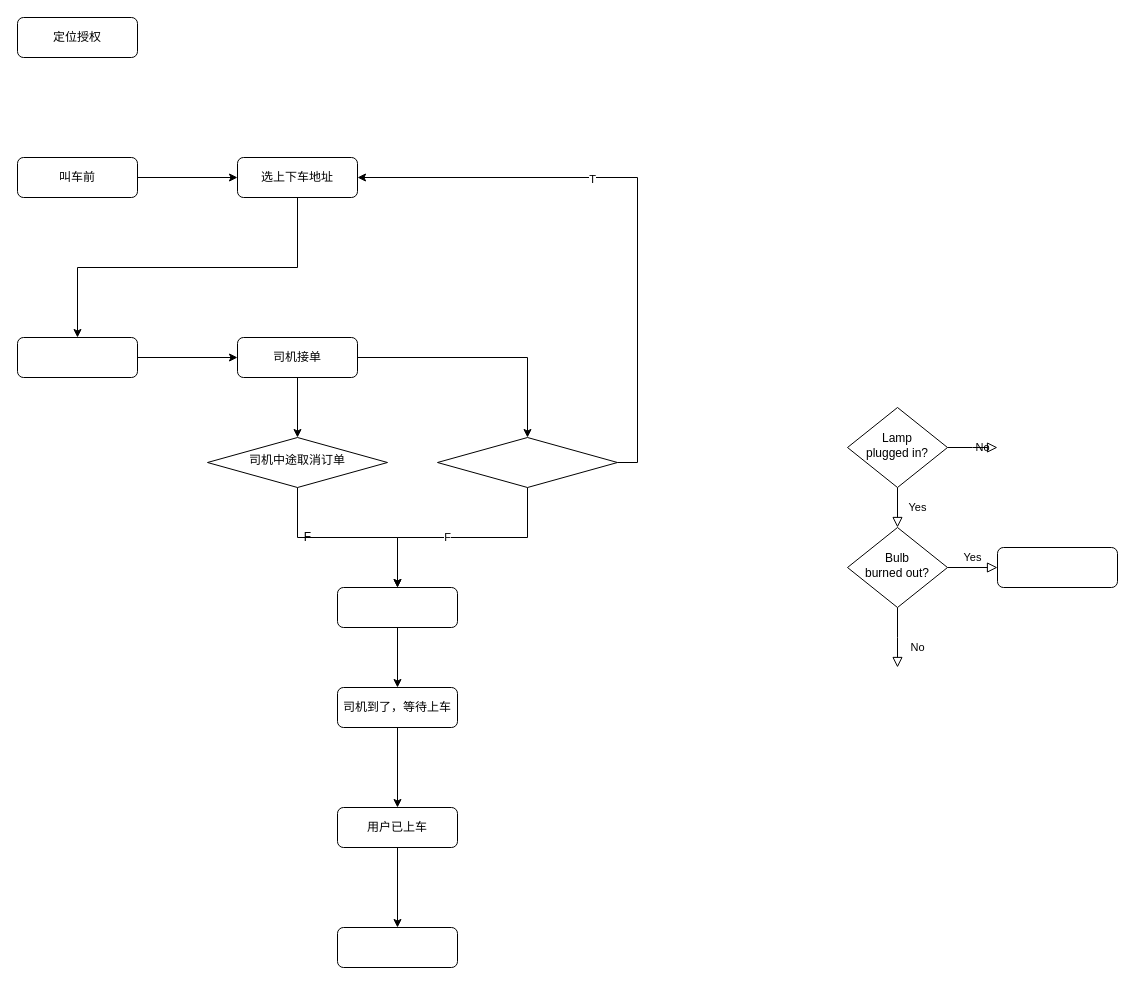
Image size: 1135x985. Some labels were removed from this diagram. Each missing label, with the centre of its shape:
"Replace Bulb" belongs at (x=1057, y=567).
"叫车中" belongs at (x=77, y=357).
"用户中途取消订单" belongs at (x=527, y=462).
"等待接驾" belongs at (x=397, y=607).
"行程结束" belongs at (x=397, y=947).
